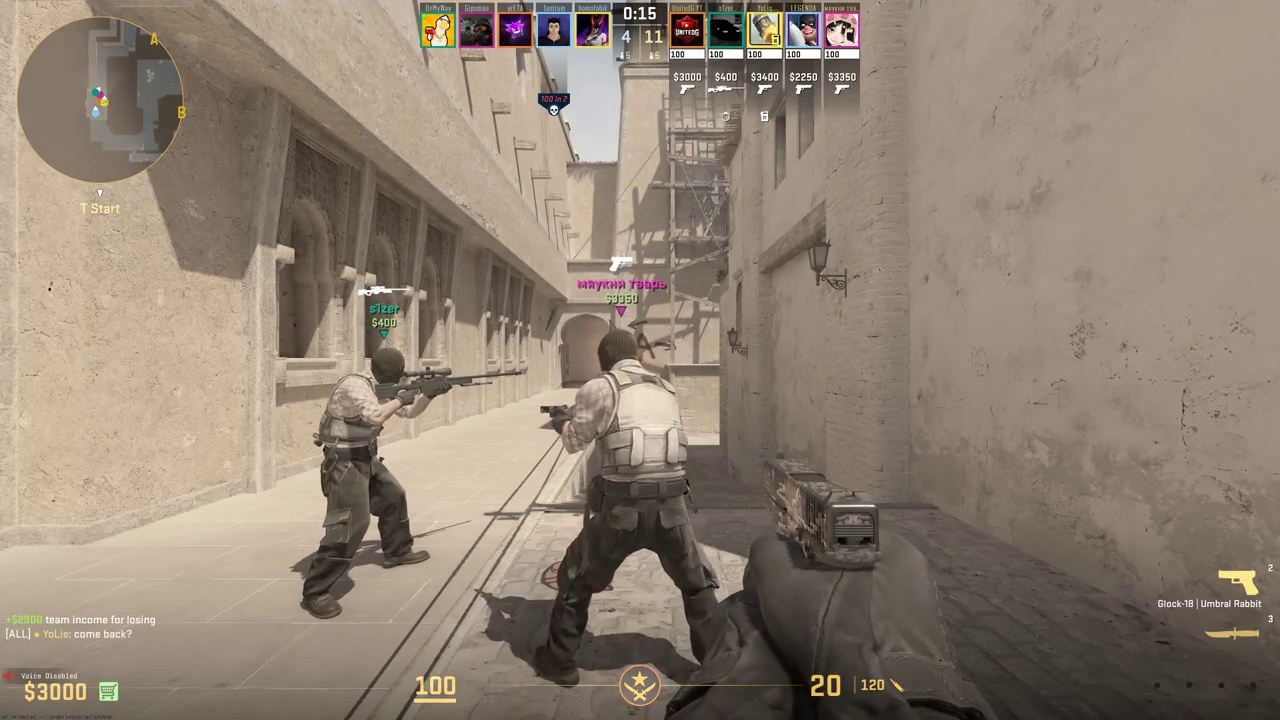Terrorist: (549, 329, 711, 687), (303, 349, 433, 620)
